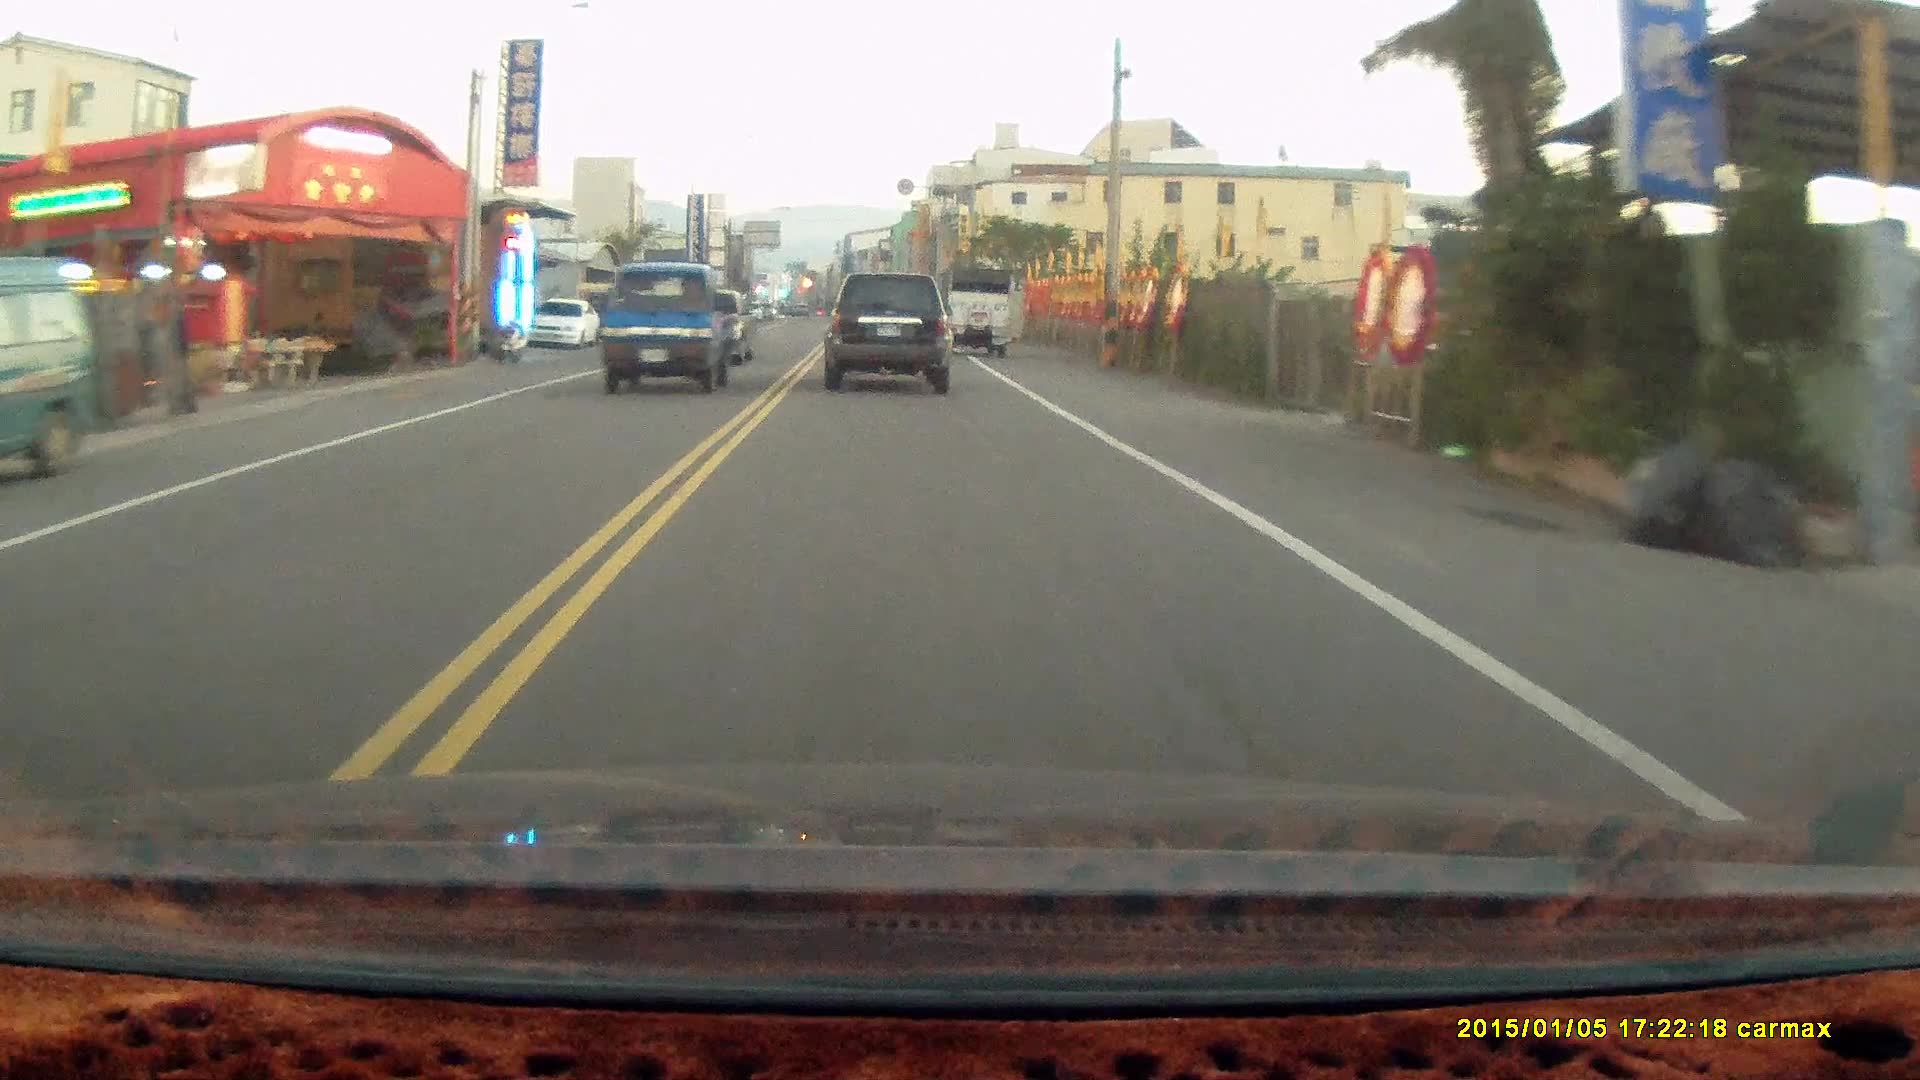vehicle: (1, 256, 104, 487), (595, 262, 756, 396), (825, 265, 963, 392), (938, 264, 1018, 359), (533, 297, 597, 352)
